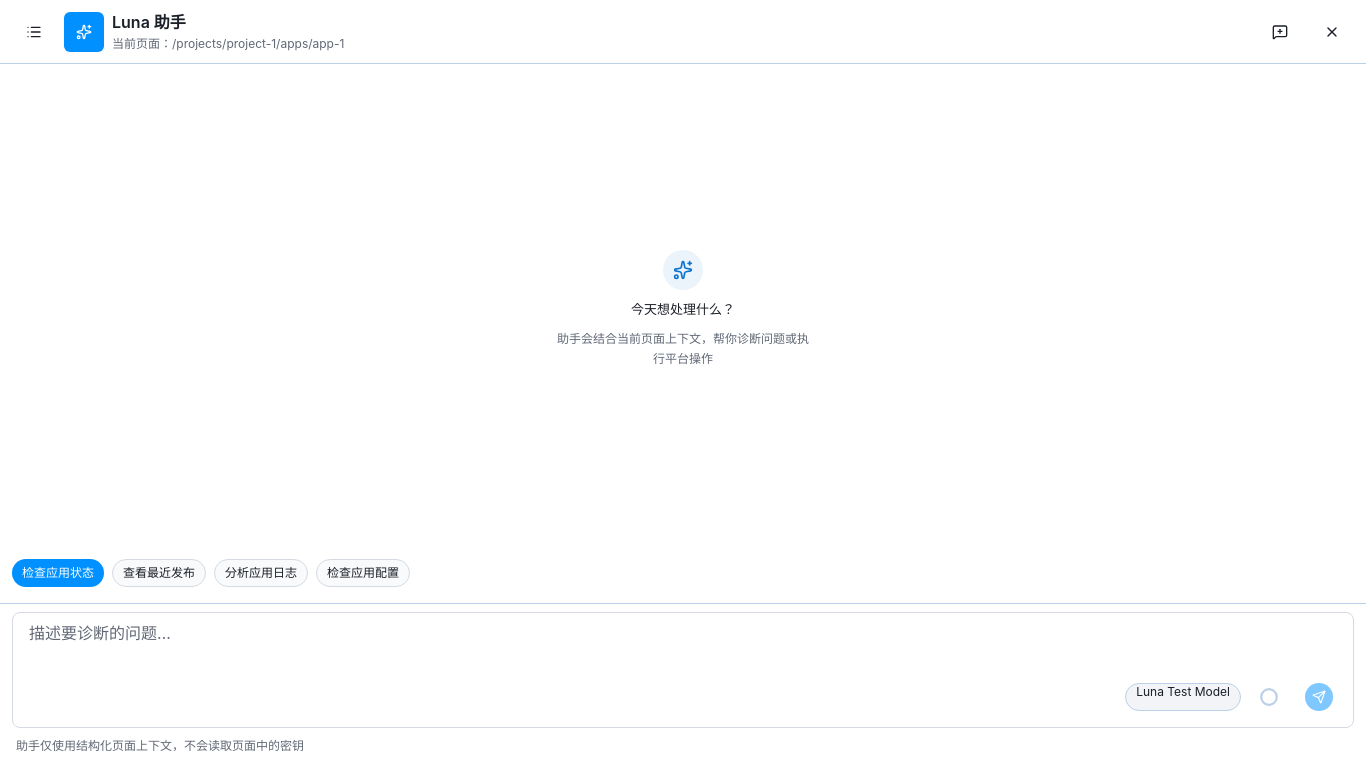
Test: ai assistant route page › selects a conversation and returns to the chat history entry
The width and height of the screenshot is (1366, 768).
Click the button named "会话": [34, 32] box [12, 10, 56, 54]
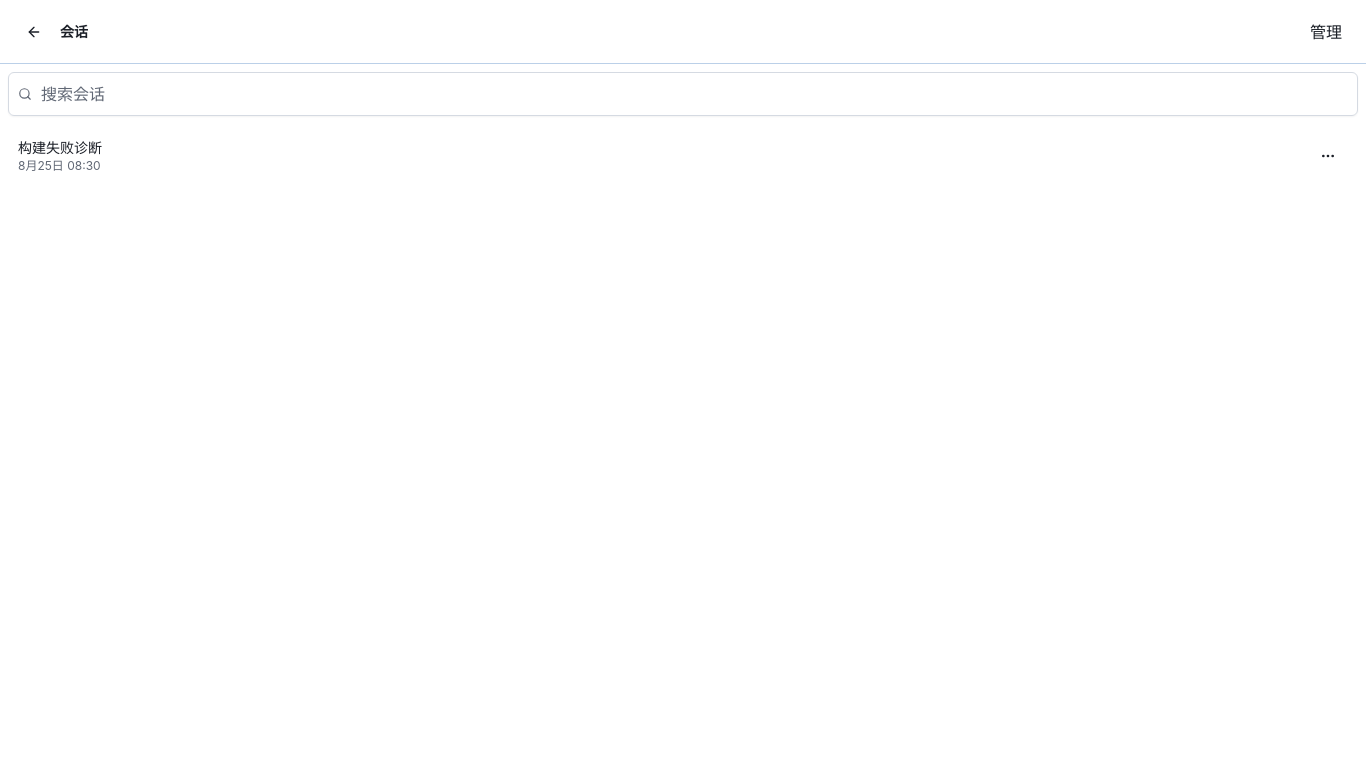
Click the button "构建失败诊断 8月25日 08:30": [60, 148] box [18, 134, 1298, 178]
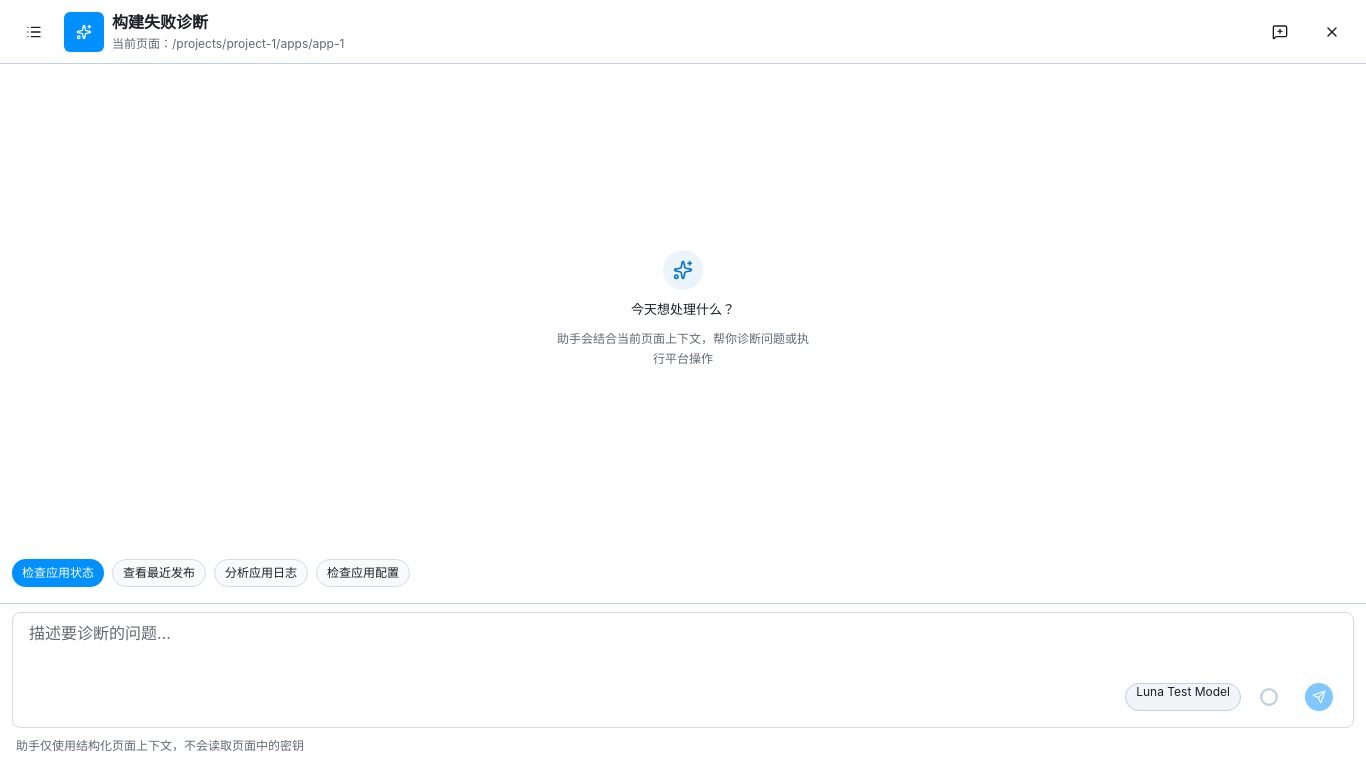
Expected: the heading "构建失败诊断" is shown, [112, 12, 208, 32]
Expected: the element that starts with "构建失败诊断" is shown
